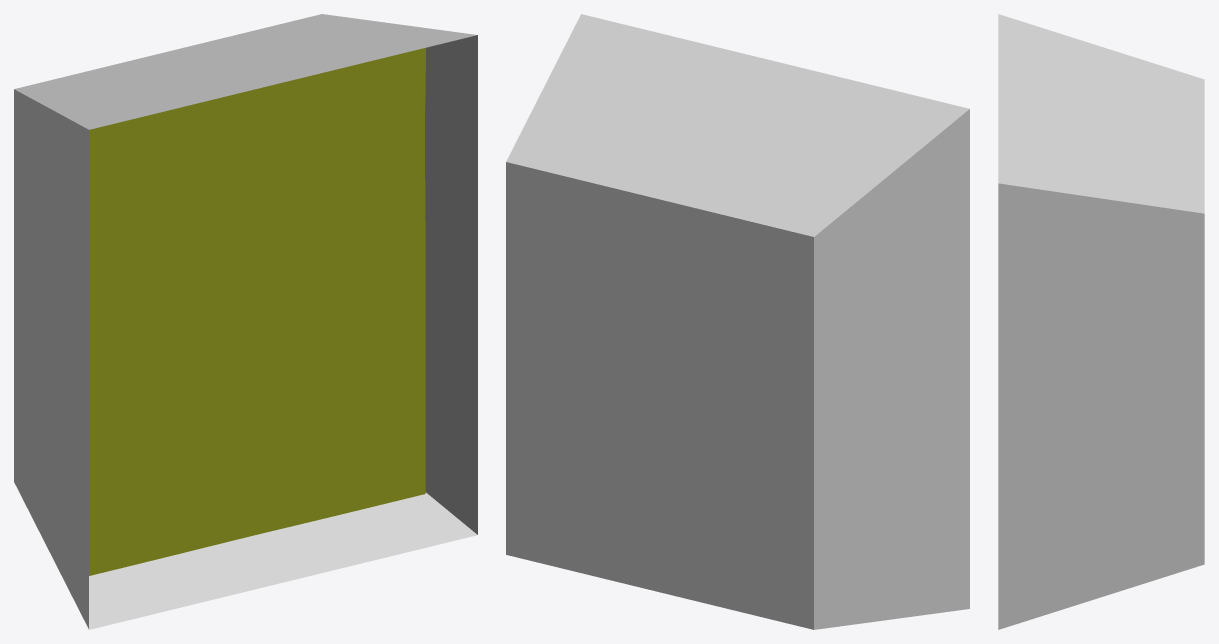
The model's file is mold resize.fbx.
3 views of the same model, side by side, from view 1: azimuth 30°, elevation 25°; view 2: azimuth 150°, elevation 25°; view 3: azimuth 270°, elevation 25° (orthographic). The views are drawn at different scales.
Visible parts, largest first — view 1: Cube, Cube.001; view 2: Cube.001; view 3: Cube.001.
Part boxes in pixels (x1=…): Cube: x1=89, y1=48, x2=425, y2=575; Cube.001: x1=14, y1=14, x2=477, y2=629; Cube.001: x1=506, y1=14, x2=969, y2=629; Cube.001: x1=998, y1=14, x2=1204, y2=629.
Bounding box in the file's own units: 41.8 × 51.38 × 21.5.
